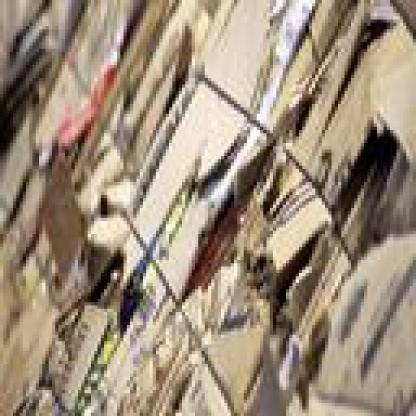CARDBOARD: (0, 0, 413, 413), (120, 68, 351, 413), (9, 208, 230, 413), (195, 0, 413, 198), (0, 94, 81, 413), (286, 237, 413, 413), (32, 0, 152, 156), (94, 0, 195, 153), (0, 0, 65, 91)
